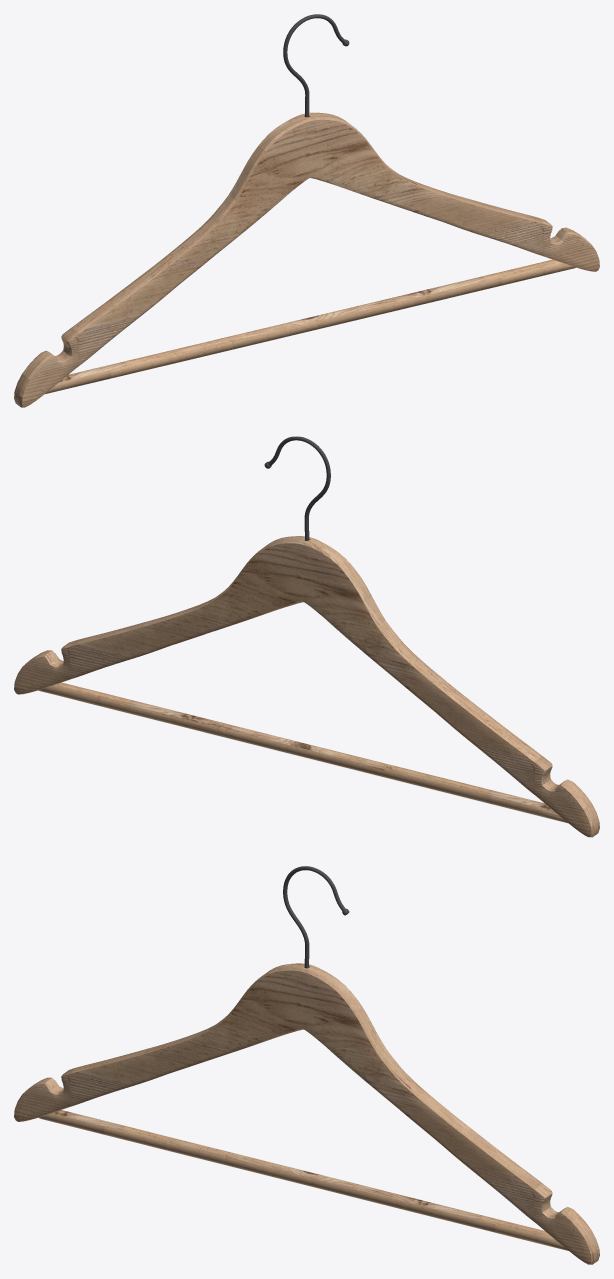
The model's file is Percha.002.glb.
3 renders of one model, top to bottom at view 1: azimuth 30°, elevation 25°; view 2: azimuth 150°, elevation 25°; view 3: azimuth 330°, elevation 25°, orthographic.
Visible parts, largest first — view 1: Armario_Percha.002; view 2: Armario_Percha.002; view 3: Armario_Percha.002.
Part boxes in pixels (x1,y1,x2,y2): Armario_Percha.002: [14, 14, 599, 407]; Armario_Percha.002: [14, 436, 599, 837]; Armario_Percha.002: [14, 866, 599, 1264].
Size of the model in its own units: 0.5215 by 0.278 by 0.02.
2 materials, 1 textured.
